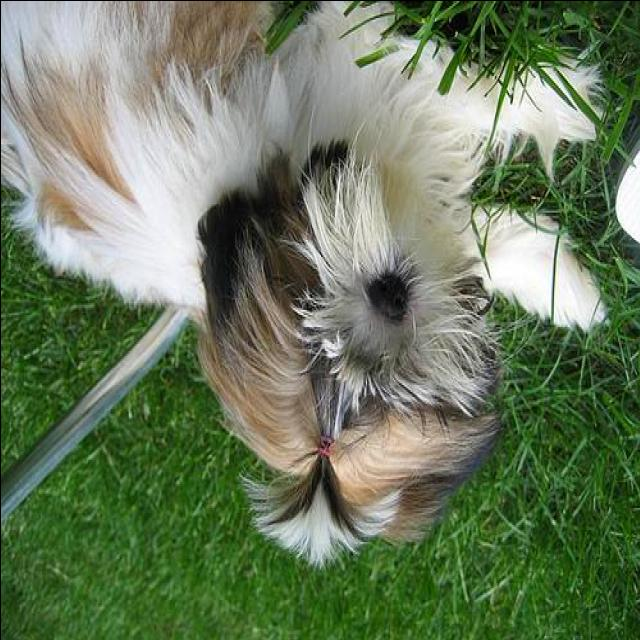shih_tzu: (0, 1, 608, 574)
